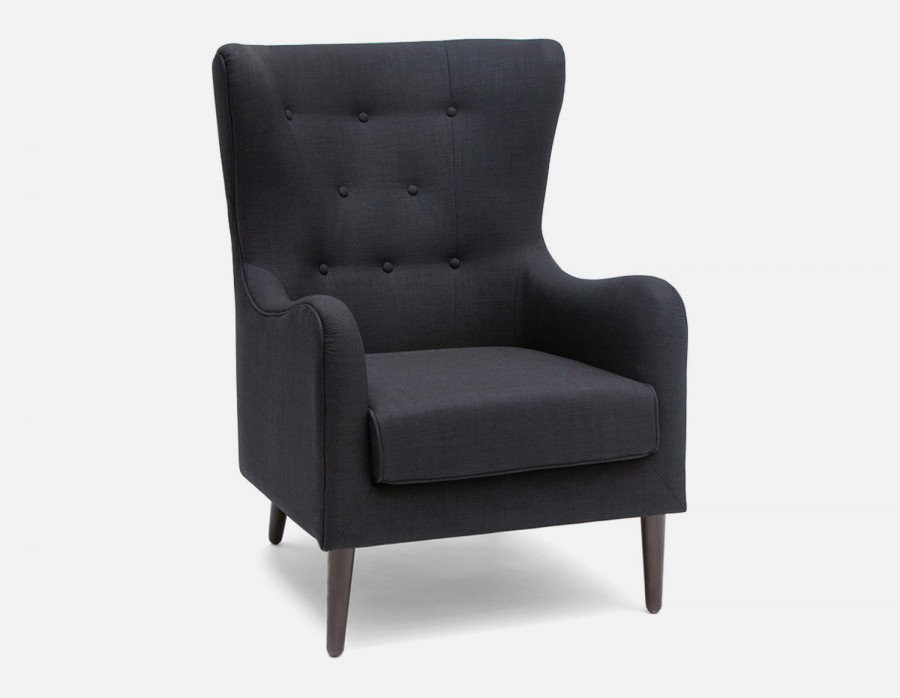chairs: (193, 30, 692, 658)
